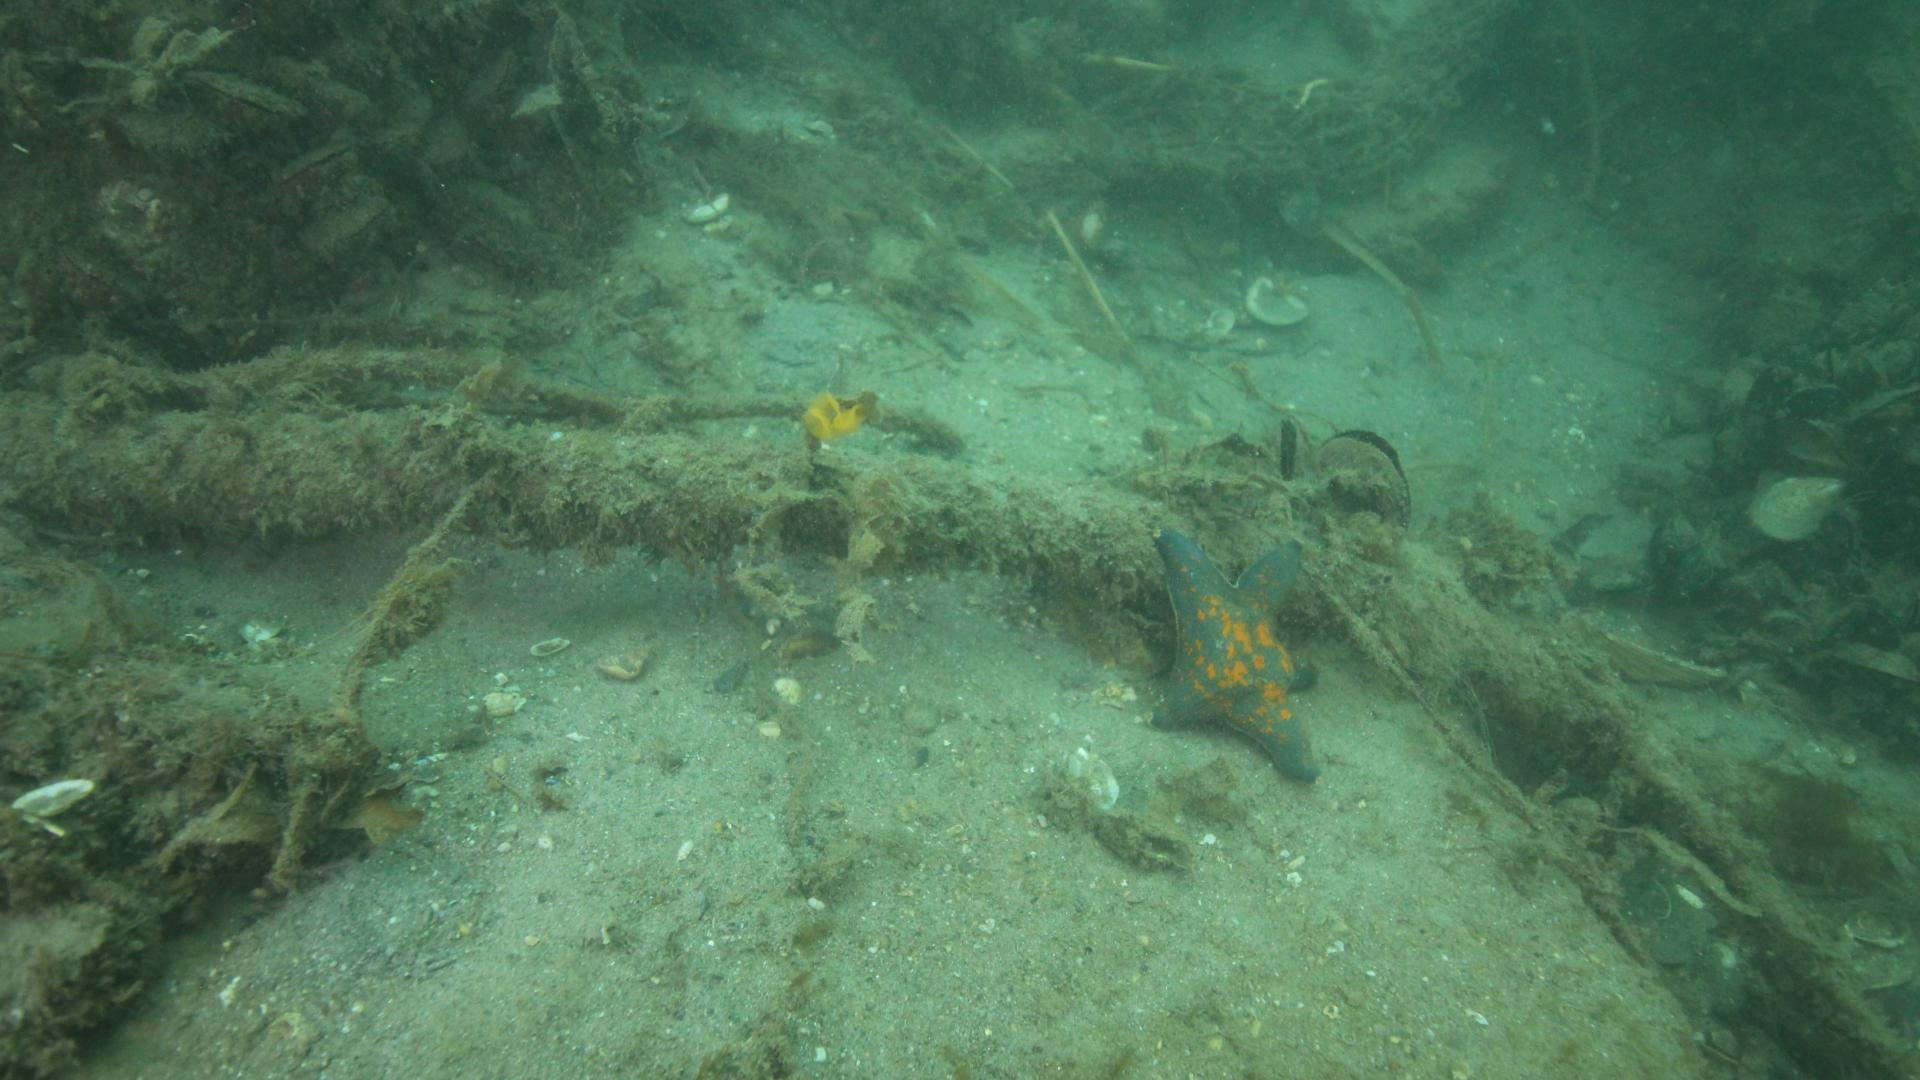rope: (47, 419, 1160, 603)
